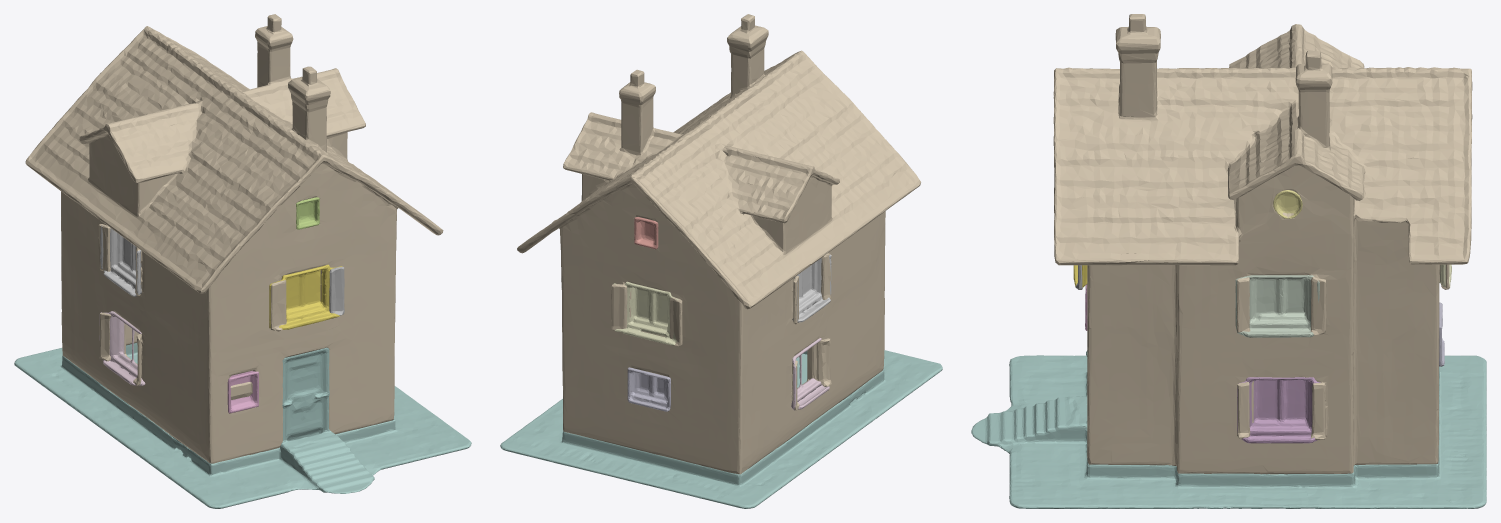
The model's file is house.glb.
The picture shows the model from 3 angles, left to right: view 1: azimuth 30°, elevation 25°; view 2: azimuth 150°, elevation 25°; view 3: azimuth 270°, elevation 25°; orthographic projection. The views are drawn at different scales.
Parts seen in each view (by area): view 1: house_0.obj_18, house_0.obj, house_0.obj_17, house_0.obj_8, house_0.obj_7, house_0.obj_15, house_0.obj_19, house_0.obj_16; view 2: house_0.obj_18, house_0.obj, house_0.obj_1, house_0.obj_2, house_0.obj_8, house_0.obj_7, house_0.obj_3; view 3: house_0.obj_18, house_0.obj, house_0.obj_9, house_0.obj_10, house_0.obj_11.
Boxes of the visible parts, x1,y1,x2,y2 form: house_0.obj_18: (25, 14, 443, 463); house_0.obj: (14, 343, 471, 508); house_0.obj_17: (269, 264, 342, 329); house_0.obj_8: (100, 225, 141, 296); house_0.obj_7: (99, 311, 145, 385); house_0.obj_15: (227, 371, 258, 413); house_0.obj_19: (329, 266, 344, 315); house_0.obj_16: (296, 197, 319, 229); house_0.obj_18: (517, 14, 920, 474); house_0.obj: (500, 350, 942, 508); house_0.obj_1: (613, 281, 678, 345); house_0.obj_2: (627, 367, 670, 411); house_0.obj_8: (792, 254, 831, 322); house_0.obj_7: (791, 338, 829, 410); house_0.obj_3: (634, 217, 658, 249); house_0.obj_18: (1053, 14, 1472, 474); house_0.obj: (971, 350, 1486, 508); house_0.obj_9: (1237, 377, 1320, 443); house_0.obj_10: (1235, 275, 1319, 337); house_0.obj_11: (1273, 190, 1302, 218).
Bounding box in the file's own units: 1.23 × 1.64 × 1.78.
